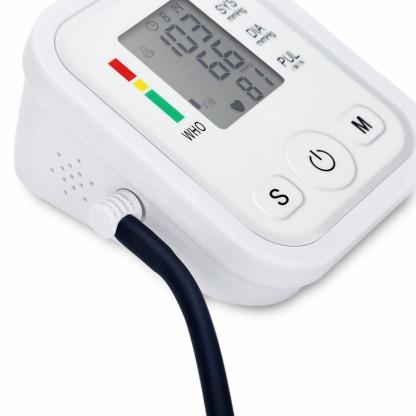Displays: (115, 0, 287, 132)
